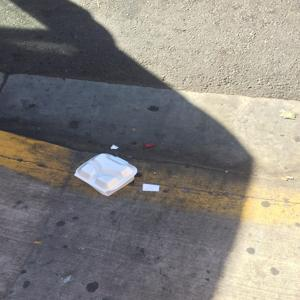plastic: (77, 152, 134, 196), (142, 183, 166, 199)
